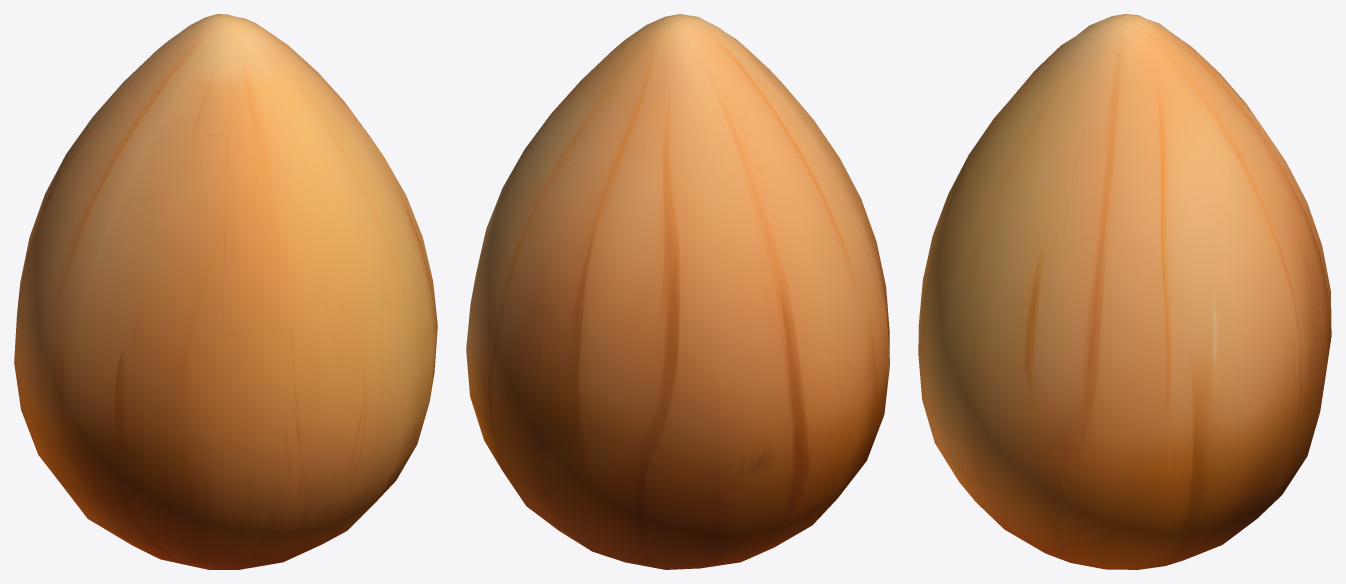
File: SEMILLAARROZ 1.fbx
The picture shows the model from 3 angles, left to right: view 1: azimuth 30°, elevation 25°; view 2: azimuth 150°, elevation 25°; view 3: azimuth 270°, elevation 25°; orthographic projection.
Parts seen in each view (by area): view 1: Retopo_model.001; view 2: Retopo_model.001; view 3: Retopo_model.001.
Boxes of the visible parts, x1,y1,x2,y2 form: Retopo_model.001: (14,14,437,569); Retopo_model.001: (466,14,889,569); Retopo_model.001: (918,14,1331,569).
Size of the model in its own units: 133 by 183 by 129.
1 material, 1 textured.
